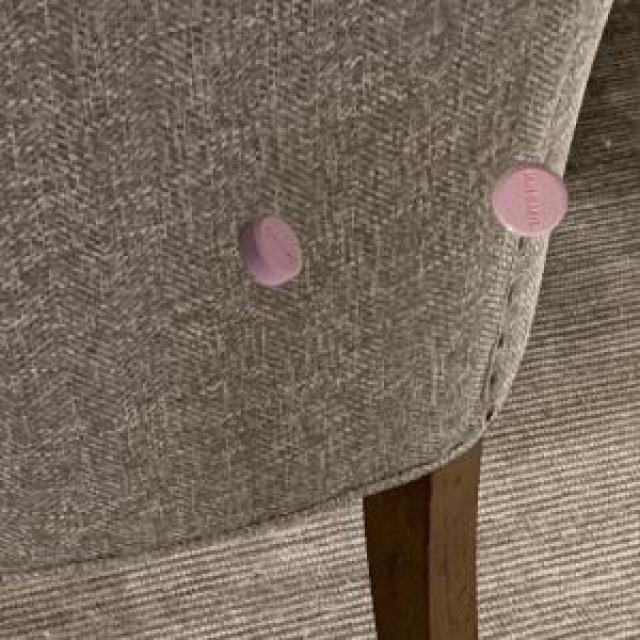Kremil_S: (483, 151, 578, 250), (230, 205, 311, 298)
